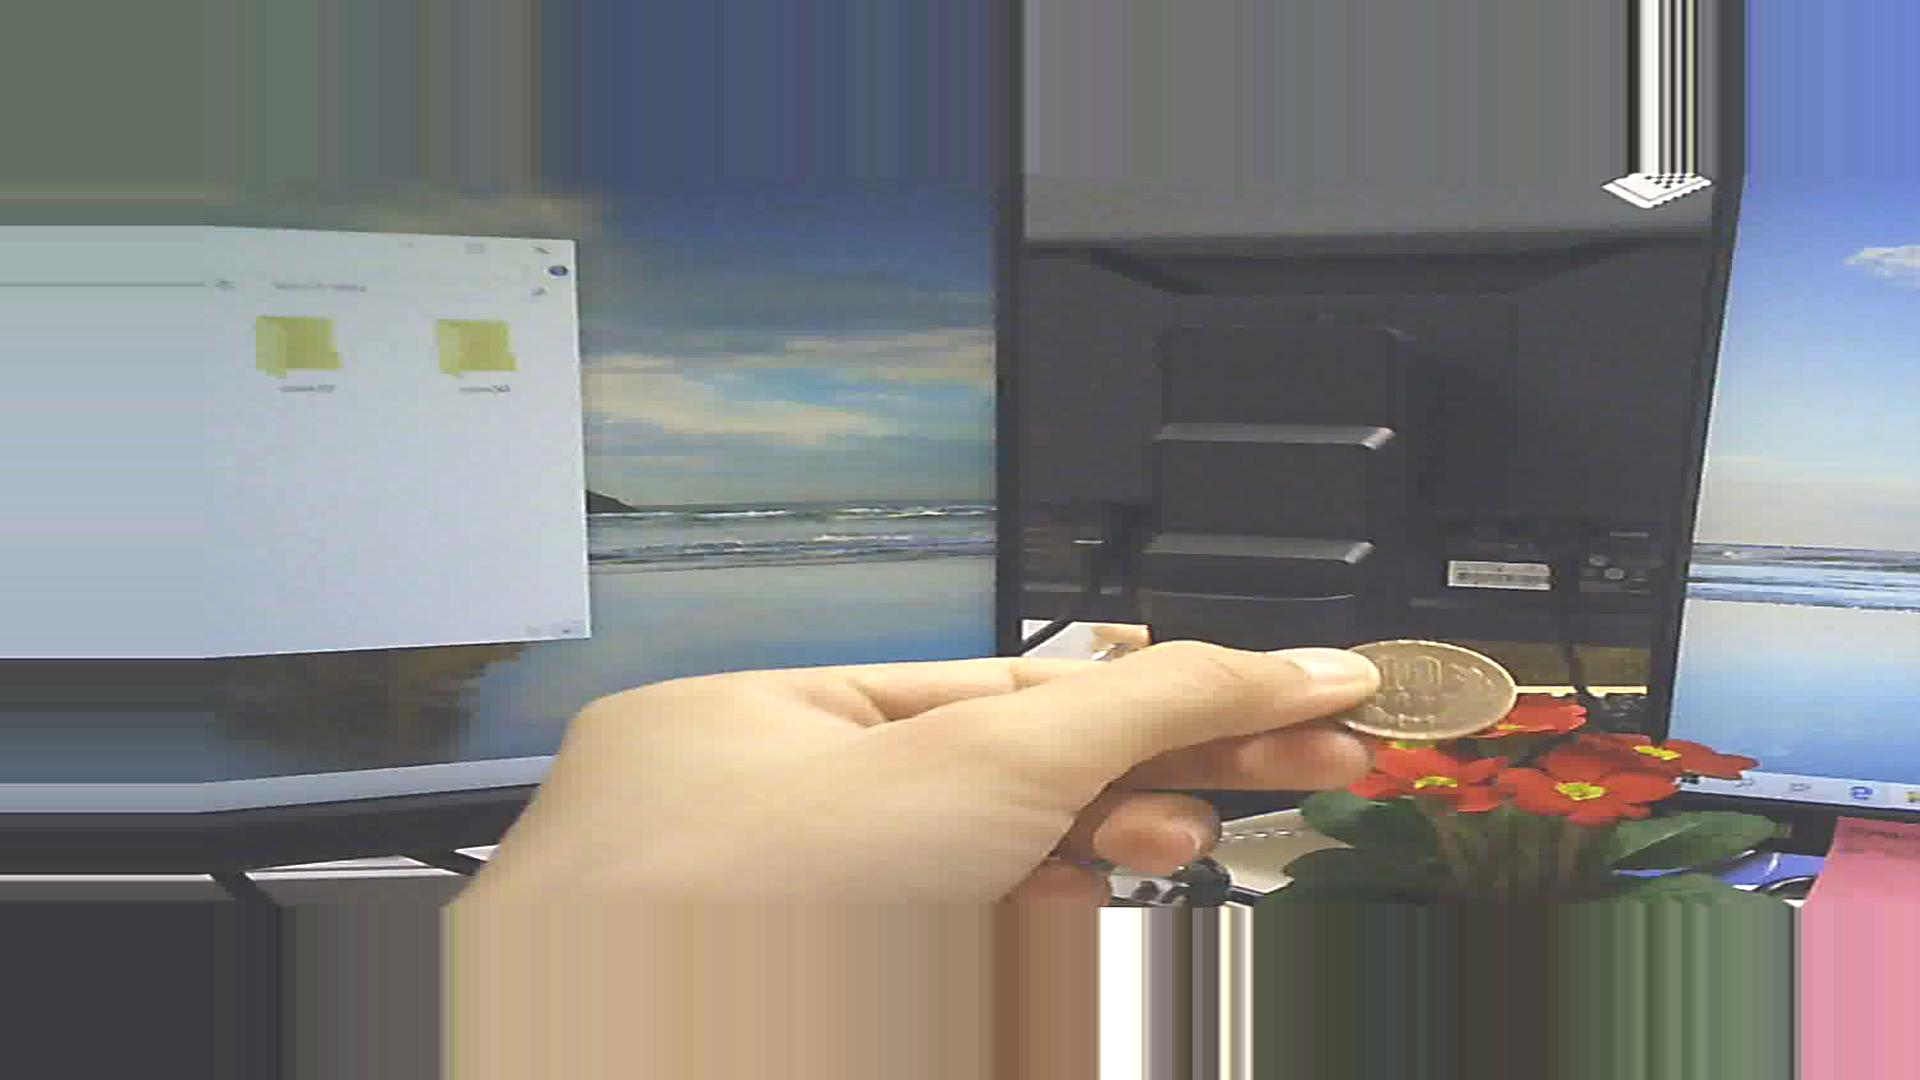10 Yen: (1320, 618, 1528, 748)
